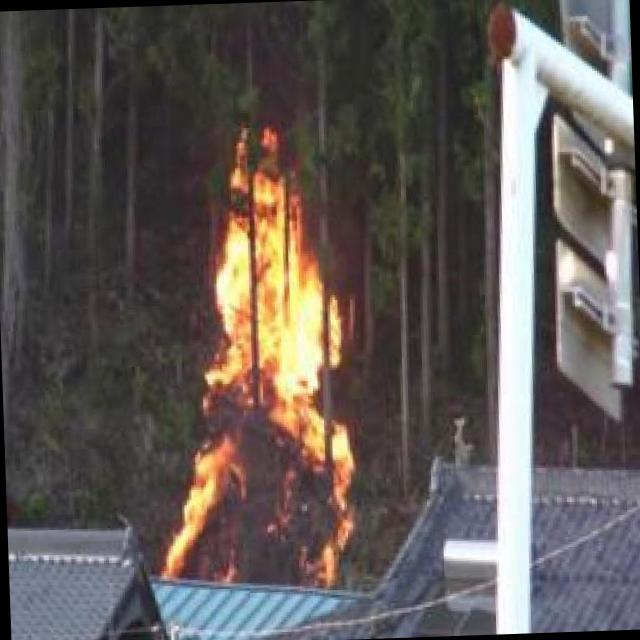Fire: (152, 104, 366, 594)
